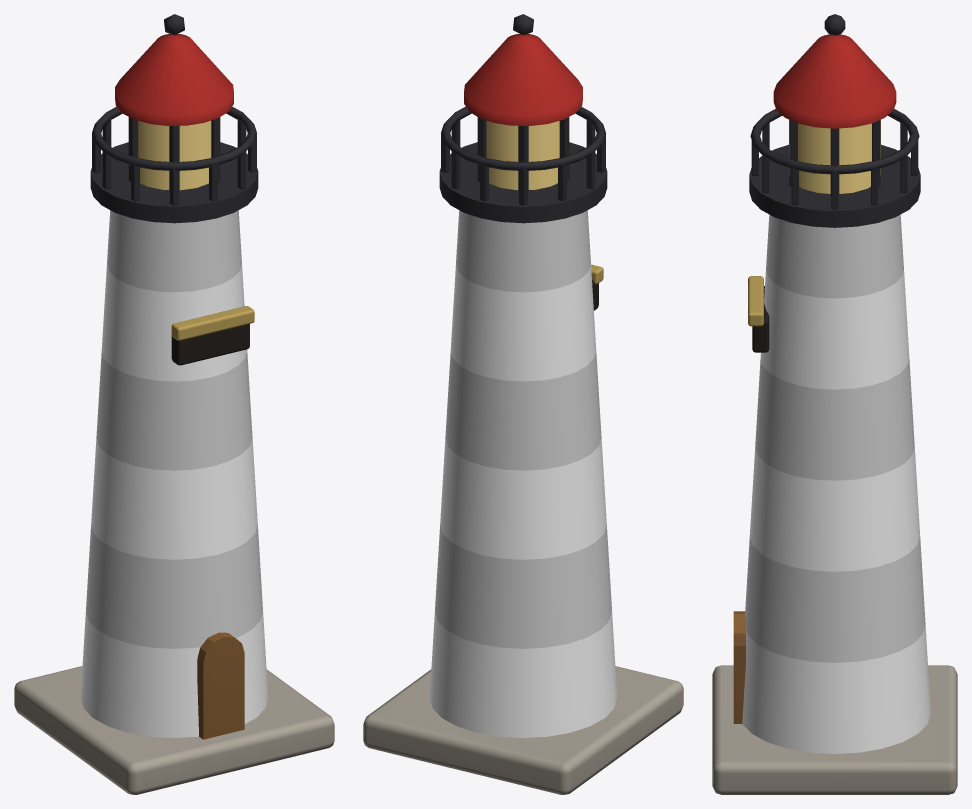
The model's file is mailbox_lighthouse.glb.
3 views of the same model, side by side, from view 1: azimuth 30°, elevation 25°; view 2: azimuth 150°, elevation 25°; view 3: azimuth 270°, elevation 25° (orthographic). The views are drawn at different scales.
Parts seen in each view (by area): view 1: mailbox_lighthouse_main, mailbox_lighthouse_body, mailbox_lighthouse_glow; view 2: mailbox_lighthouse_main, mailbox_lighthouse_body, mailbox_lighthouse_glow; view 3: mailbox_lighthouse_main, mailbox_lighthouse_body, mailbox_lighthouse_glow.
Boxes of the visible parts, x1,y1,x2,y2 form: mailbox_lighthouse_main: (14,14,334,794); mailbox_lighthouse_body: (80,265,268,737); mailbox_lighthouse_glow: (138,120,211,190); mailbox_lighthouse_main: (363,14,683,794); mailbox_lighthouse_body: (429,265,617,737); mailbox_lighthouse_glow: (486,120,559,190); mailbox_lighthouse_main: (712,14,957,794); mailbox_lighthouse_body: (742,270,930,753); mailbox_lighthouse_glow: (789,120,880,193).
Bounding box in the file's own units: 0.4 × 1.32 × 0.4.
